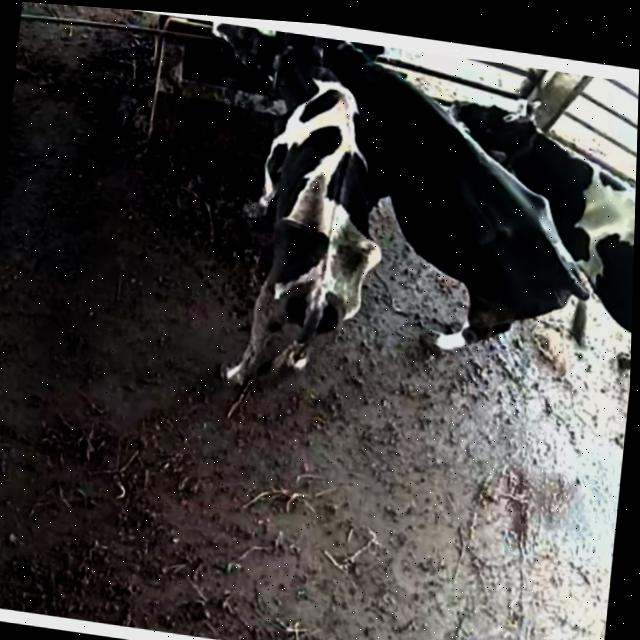drink: (281, 32, 431, 135)
